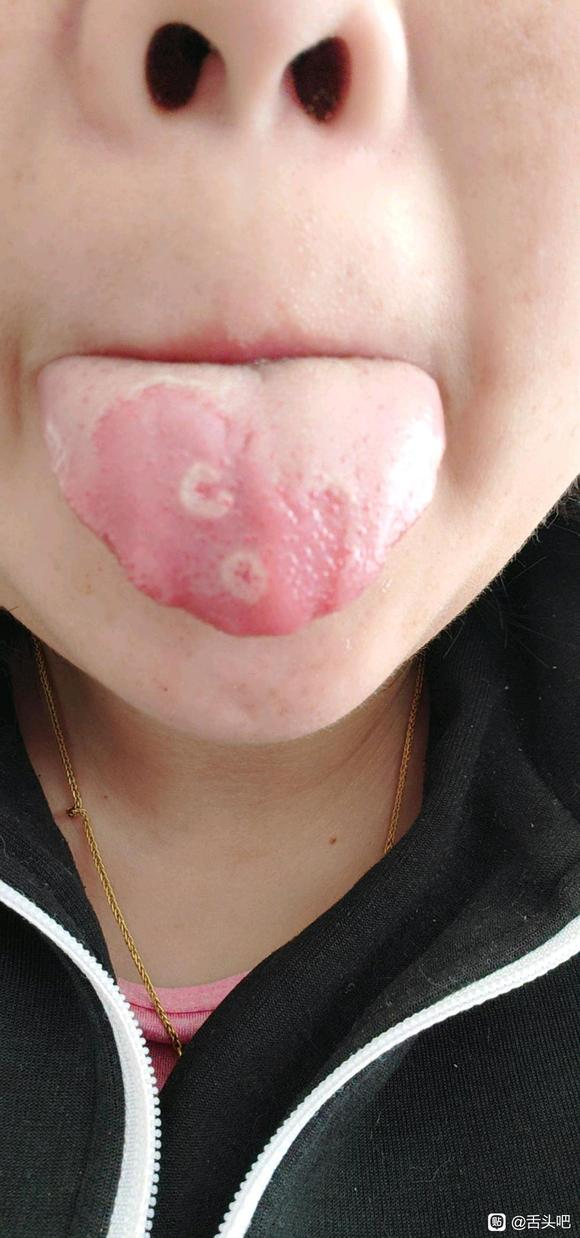baitaishe: (35, 353, 445, 637)
botaishe: (75, 375, 365, 635)
pangdashe: (35, 353, 445, 637)
